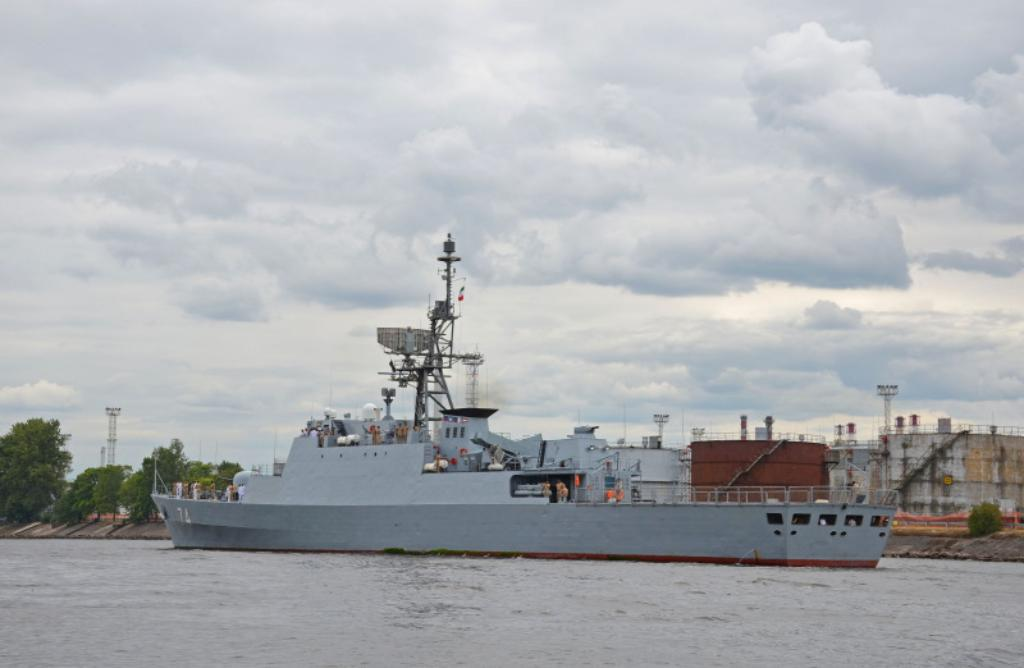Warship: (147, 221, 905, 568)
